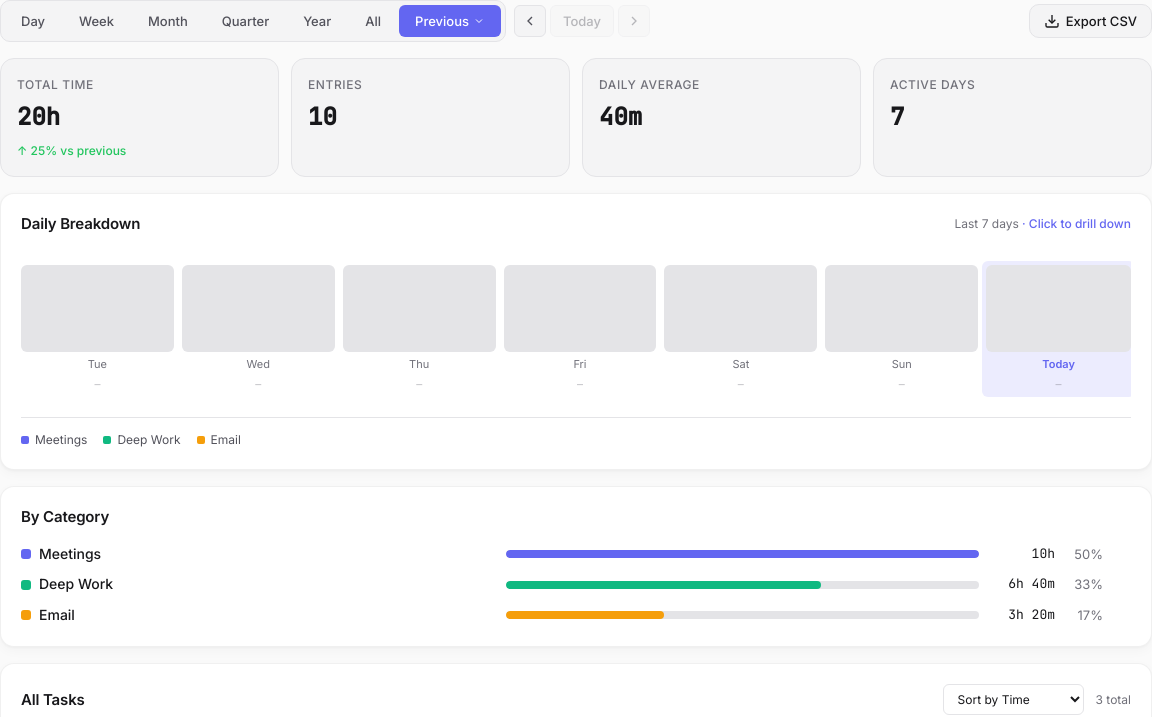
it: Analytics › shows weekly breakdown for quarter view
The image size is (1164, 717).
Expected: the text "Total Time" is shown, [17,77,94,92]
Step 1. Click the button "Quarter" → click(246, 21), box [206,5,285,37]
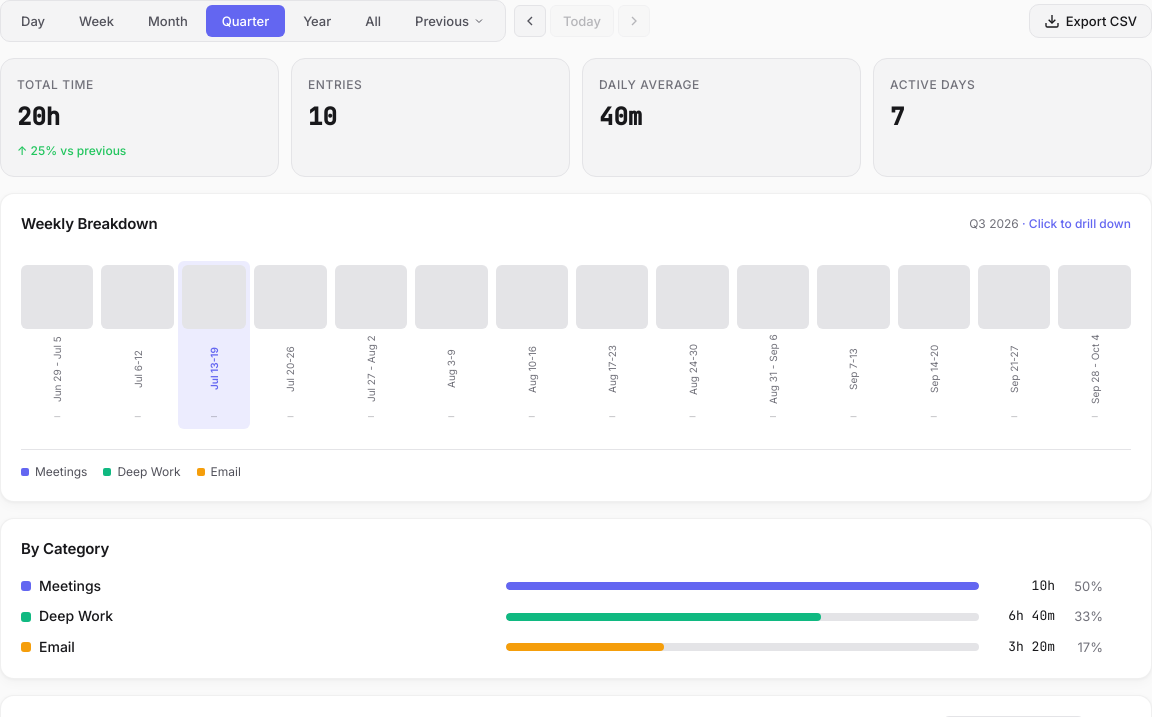
Expected: the heading "Weekly Breakdown" is shown, [21,214,158,233]
Expected: the text "Q3 2026 · Click to drill down" is shown, [969,214,1131,233]
